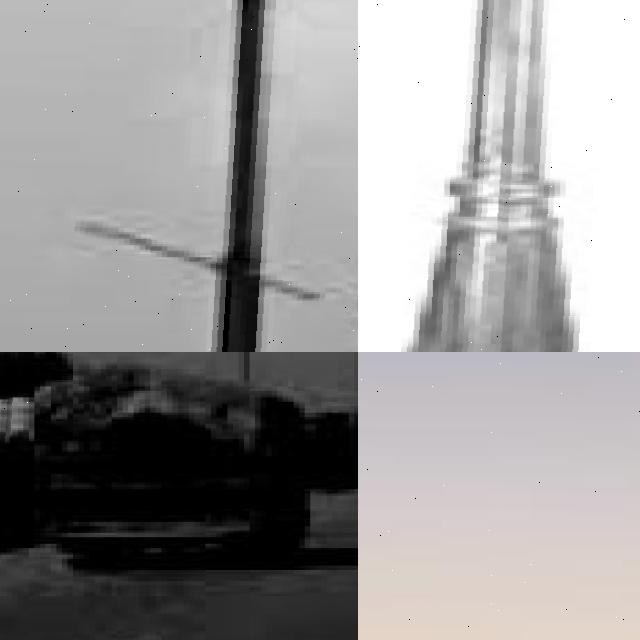street light: (0, 0, 358, 352), (358, 0, 640, 352), (358, 352, 640, 640), (133, 352, 302, 452)
